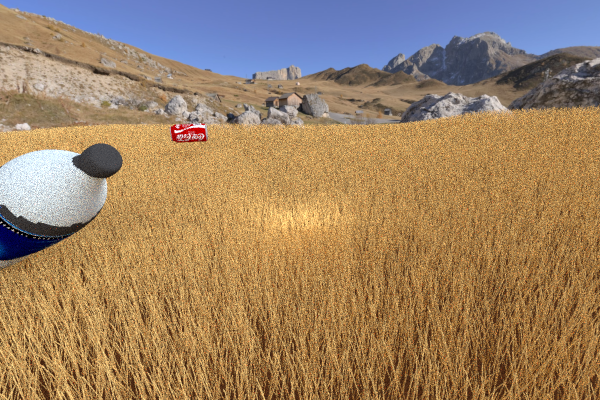bottle: (0, 143, 122, 275)
can: (0, 209, 65, 400), (169, 123, 208, 142)
